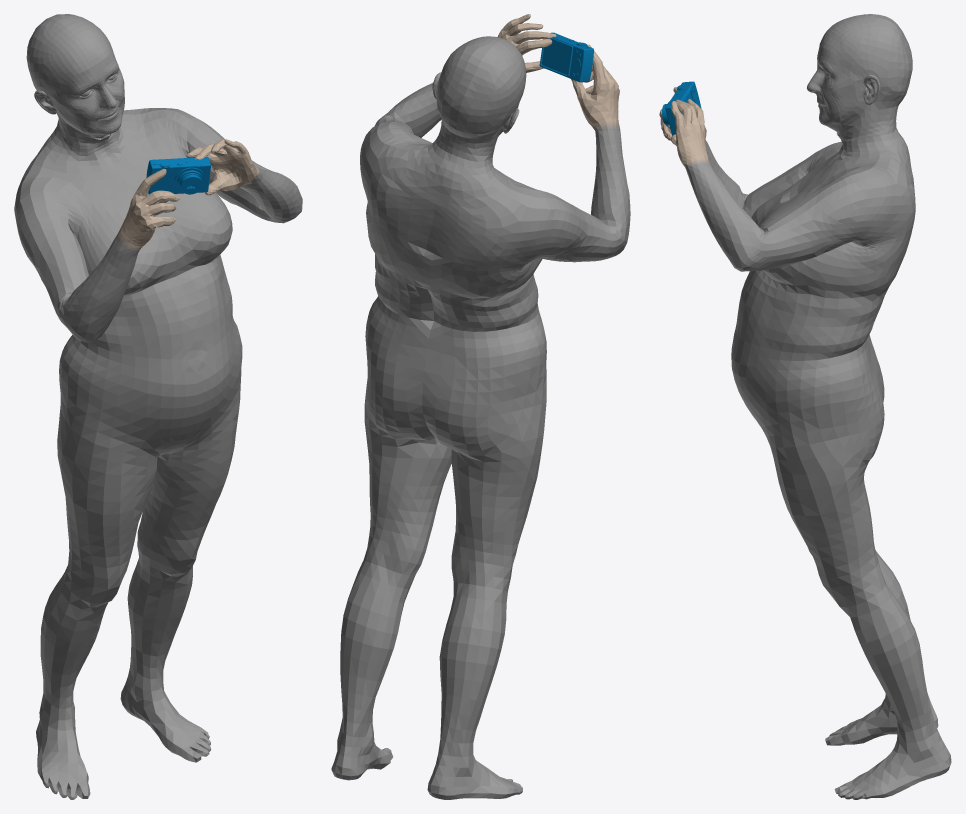
Rendered from takepicture_camera_full.glb.
3 renders of one model, left to right at view 1: azimuth 30°, elevation 25°; view 2: azimuth 150°, elevation 25°; view 3: azimuth 270°, elevation 25°, orthographic. The views are drawn at different scales.
Visible parts, largest first — view 1: takepicture_camera_full.obj; view 2: takepicture_camera_full.obj; view 3: takepicture_camera_full.obj.
Boxes of the visible parts, bbox=[...] form: takepicture_camera_full.obj: bbox=[14, 14, 302, 799]; takepicture_camera_full.obj: bbox=[331, 14, 630, 799]; takepicture_camera_full.obj: bbox=[659, 14, 951, 799].
Size of the model in its own units: 0.5218 by 1.57 by 0.57.
